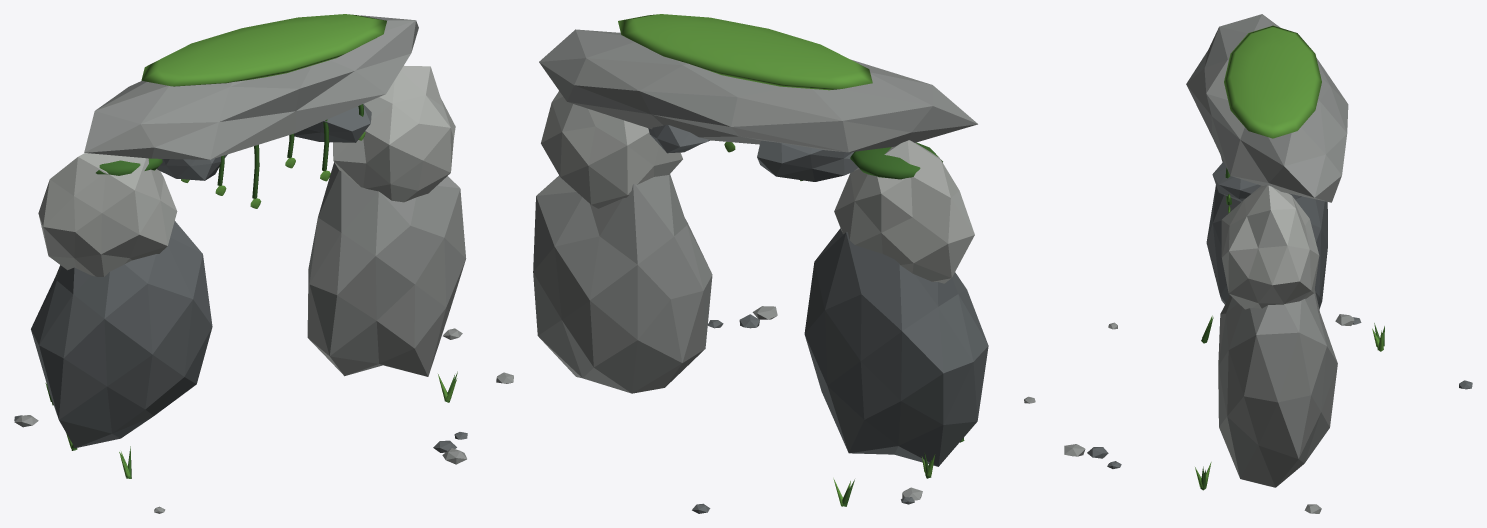
Rendered from RockArch.glb.
The picture shows the model from 3 angles, left to right: view 1: azimuth 30°, elevation 25°; view 2: azimuth 150°, elevation 25°; view 3: azimuth 270°, elevation 25°; orthographic projection. The views are drawn at different scales.
Visible parts, largest first — view 1: Body; view 2: Body; view 3: Body.
Boxes of the visible parts, left/top/right/bottom form: Body: left=14, top=14, right=467, bottom=513; Body: left=496, top=14, right=1035, bottom=513; Body: left=1064, top=14, right=1472, bottom=513.
Bounding box in the file's own units: 10.77 × 8.69 × 9.16.
Materials: 1 (1 with a texture image).
